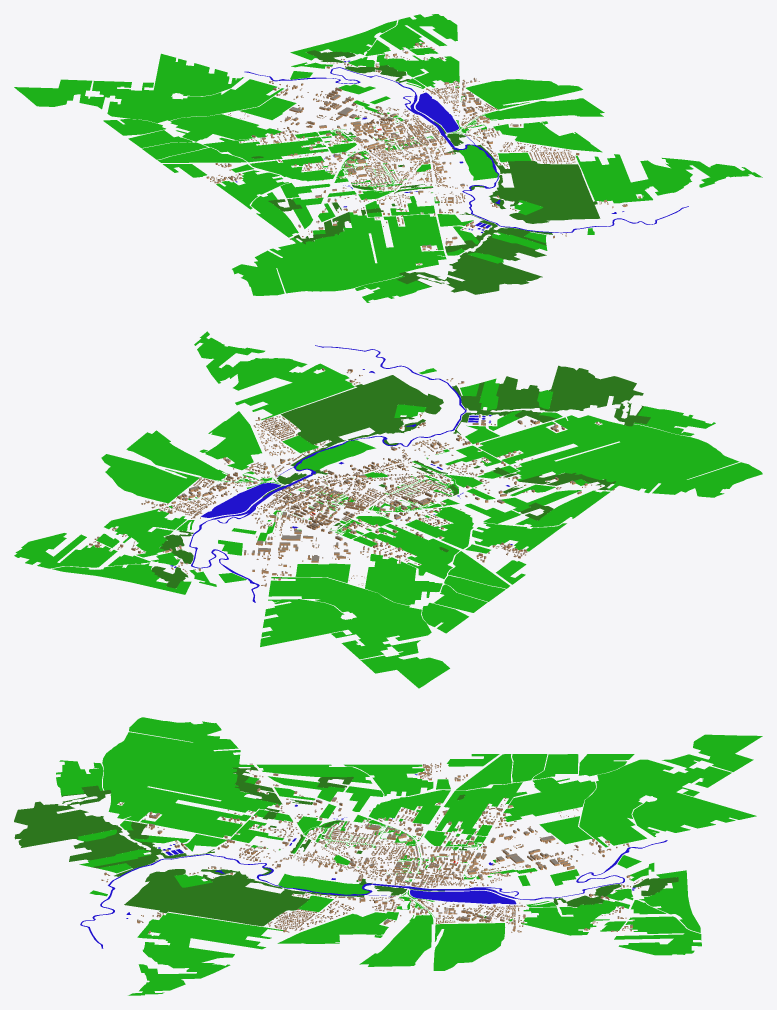
File: myCity.gltf
The picture shows the model from 3 angles, top to bottom: view 1: azimuth 30°, elevation 25°; view 2: azimuth 150°, elevation 25°; view 3: azimuth 270°, elevation 25°; orthographic projection. The views are drawn at different scales.
Parts seen in each view (by area): view 1: map.osm_vegetation, map.osm_forest, map.osm_buildings, map.osm_water; view 2: map.osm_vegetation, map.osm_forest, map.osm_buildings, map.osm_water; view 3: map.osm_vegetation, map.osm_forest, map.osm_buildings, map.osm_water.
Part boxes in pixels (<box>): map.osm_vegetation: <box>14,14,762,302</box>; map.osm_forest: <box>251,50,600,294</box>; map.osm_buildings: <box>206,42,640,264</box>; map.osm_water: <box>235,60,688,233</box>; map.osm_vegetation: <box>14,331,762,688</box>; map.osm_forest: <box>152,365,650,588</box>; map.osm_buildings: <box>89,368,619,586</box>; map.osm_water: <box>170,345,512,602</box>; map.osm_vegetation: <box>56,717,762,995</box>; map.osm_forest: <box>14,766,678,926</box>; map.osm_buildings: <box>101,762,642,933</box>; map.osm_water: <box>80,774,667,948</box>.
Size of the model in its own units: 5573 by 22.3 by 6329.
